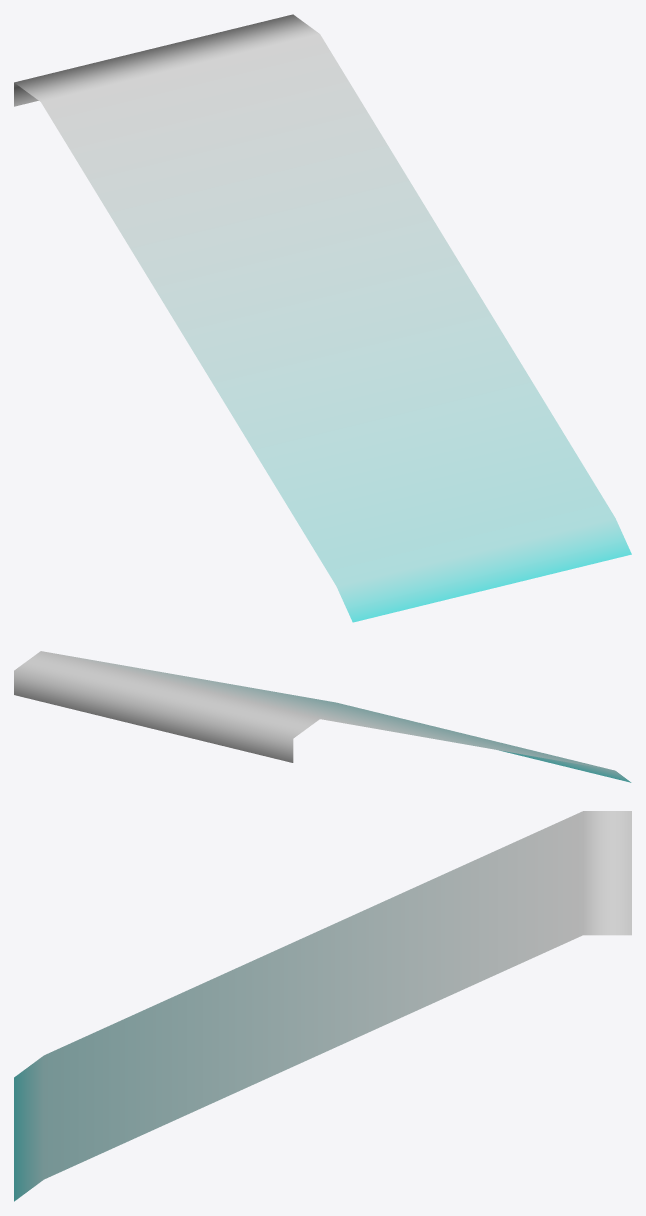
The model's file is SM_SmoothStairs2mCOL.fbx.
3 renders of one model, top to bottom at view 1: azimuth 30°, elevation 25°; view 2: azimuth 150°, elevation 25°; view 3: azimuth 270°, elevation 25°, orthographic. The views are drawn at different scales.
Parts seen in each view (by area): view 1: SM_SmoothStairs2mCOL; view 2: SM_SmoothStairs2mCOL; view 3: SM_SmoothStairs2mCOL.
Boxes of the visible parts, x1=… form: SM_SmoothStairs2mCOL: x1=14, y1=14, x2=631, y2=622; SM_SmoothStairs2mCOL: x1=14, y1=651, x2=631, y2=782; SM_SmoothStairs2mCOL: x1=14, y1=811, x2=631, y2=1201.
Size of the model in its own units: 200 by 200 by 420.
